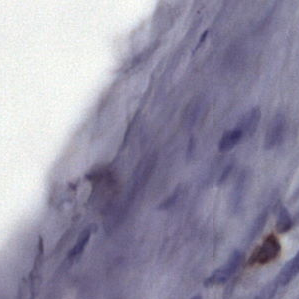Lymphocyte: (246, 233, 281, 266)
